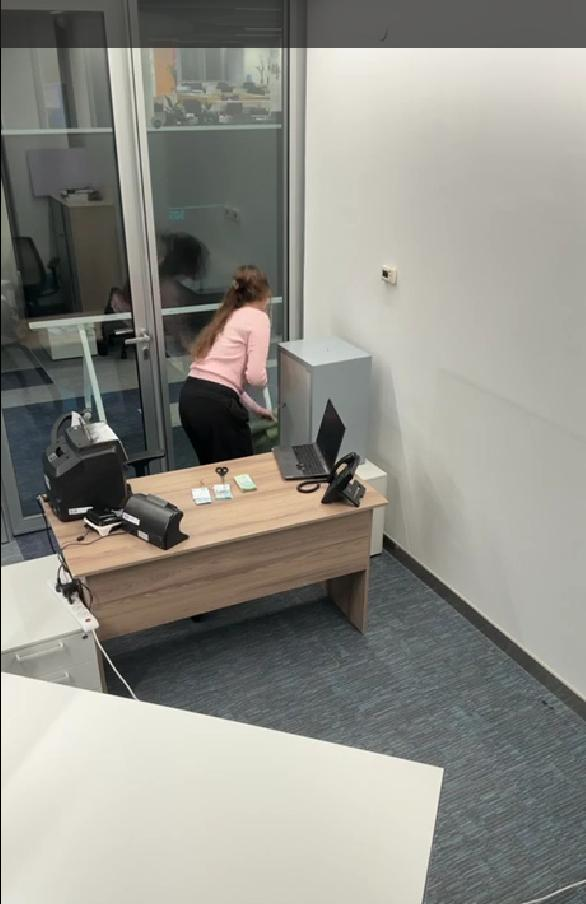cash-in-transit bag: (248, 408, 303, 461)
cash_stack: (184, 468, 215, 520), (202, 472, 243, 502), (228, 466, 263, 500)
counter: (36, 420, 132, 512)
uv_lamp: (98, 488, 211, 568)
